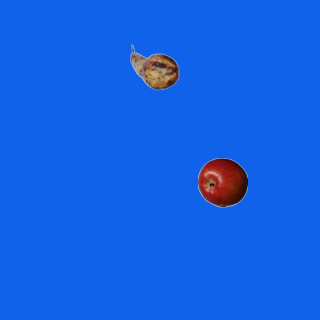Apple Braeburn: (197, 157, 247, 207)
Pear Abate: (129, 42, 179, 92)
